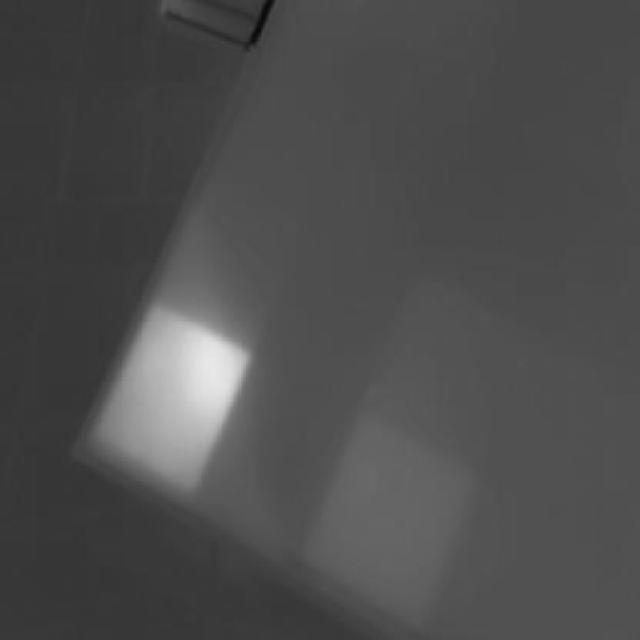hotspot: (82, 302, 260, 516)
